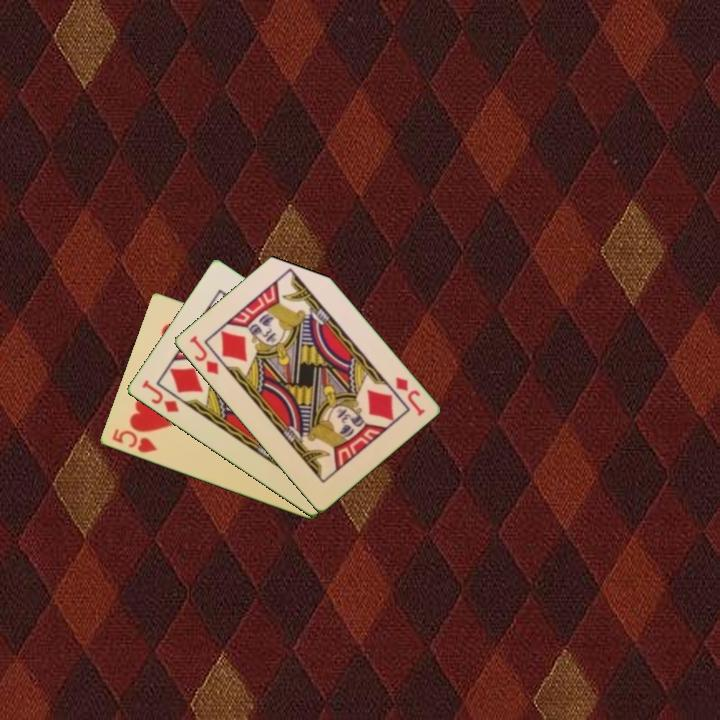5h: (108, 425, 160, 456)
Jd: (138, 377, 182, 416), (391, 373, 428, 419), (186, 332, 221, 378)
